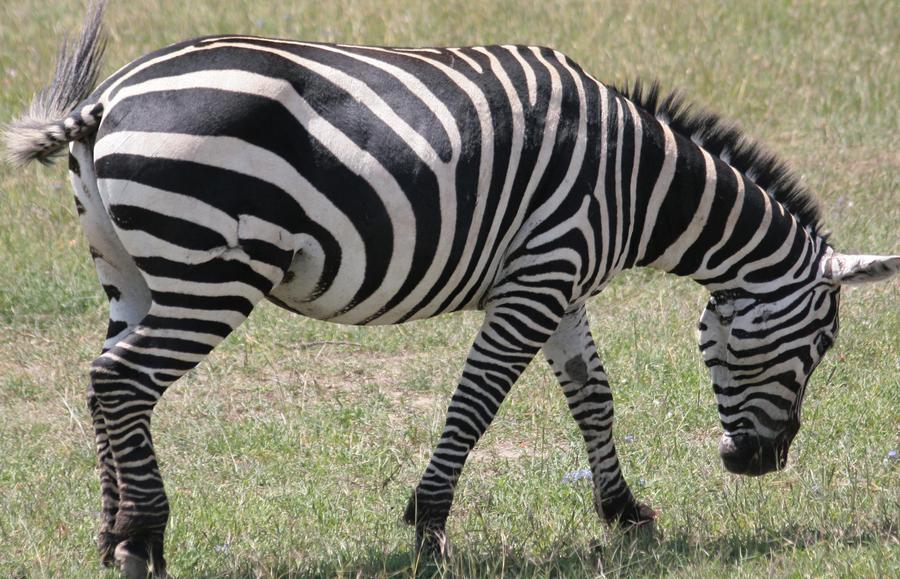zebra_plains: (139, 39, 617, 340)
